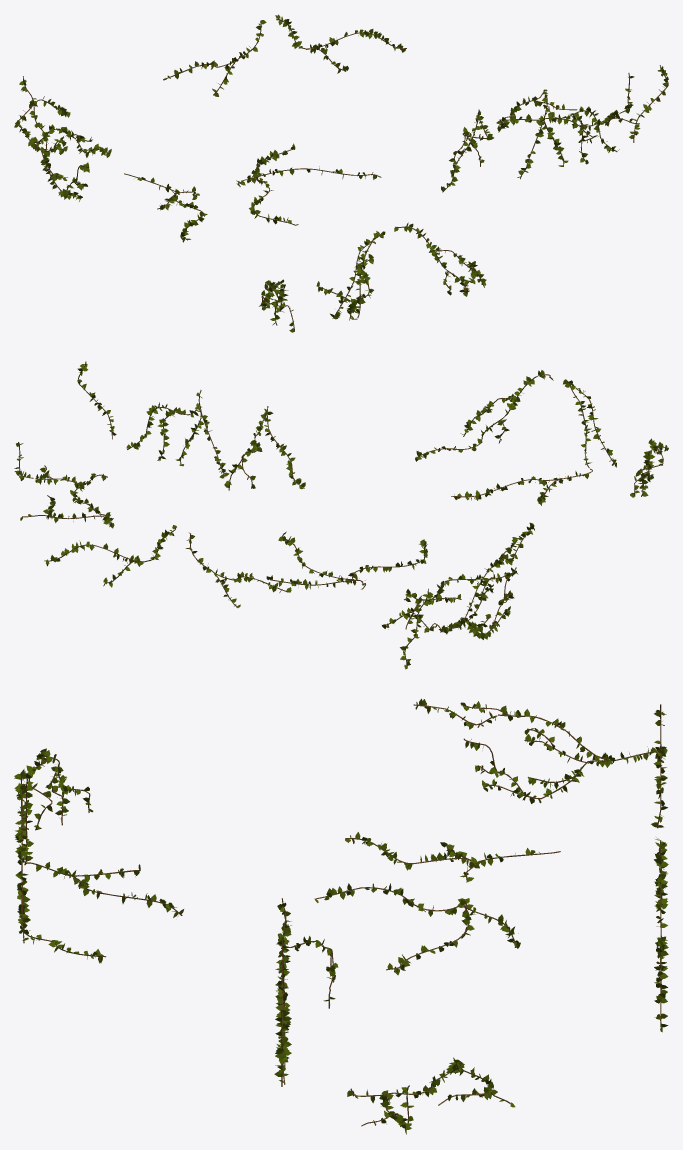
The model's file is Map1inv_vines.fbx.
3 views of the same model, one above another, from view 1: azimuth 30°, elevation 25°; view 2: azimuth 150°, elevation 25°; view 3: azimuth 270°, elevation 25° (orthographic). The views are drawn at different scales.
Parts seen in each view (by area): view 1: Map 5 Vine; view 2: Map 5 Vine; view 3: Map 5 Vine.
Boxes of the visible parts, x1,y1,x2,y2 form: Map 5 Vine: (14, 14, 668, 332); Map 5 Vine: (14, 361, 668, 669); Map 5 Vine: (14, 698, 668, 1134).
Bounding box in the file's own units: 4857 × 864 × 4061.
